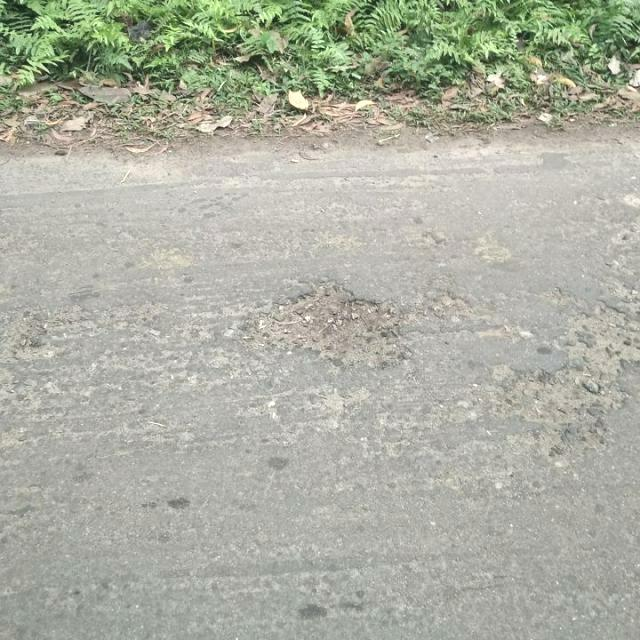Pothole: (238, 279, 409, 370), (496, 365, 630, 436), (572, 304, 640, 362)
